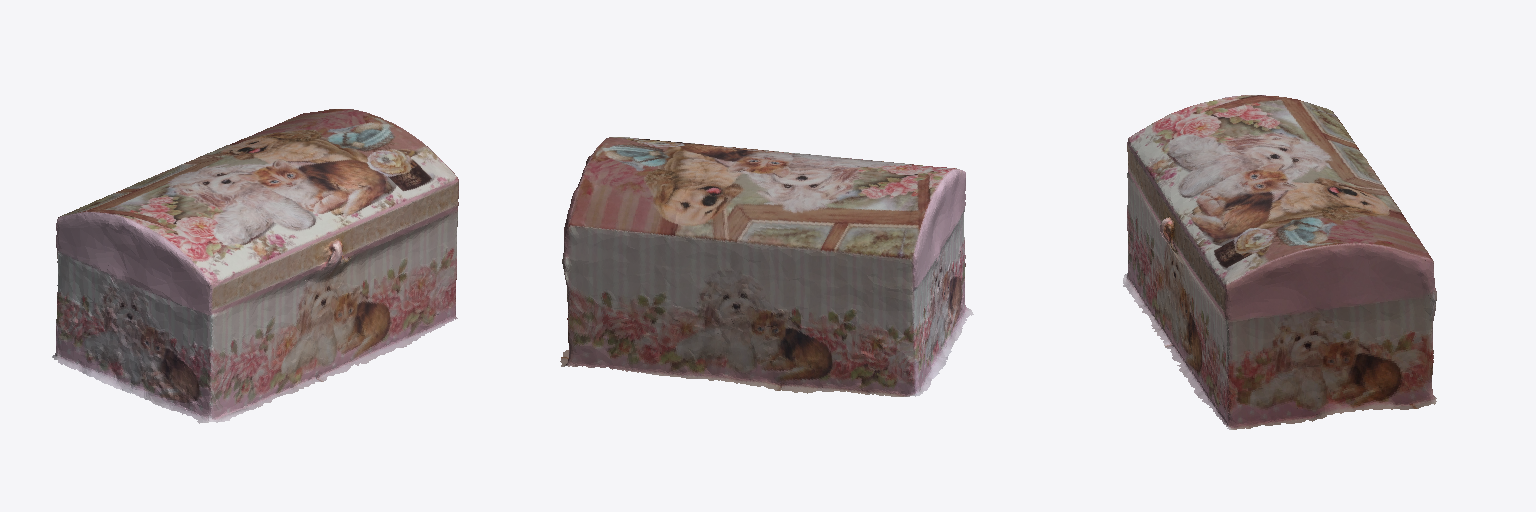
The picture shows the model from 3 angles: view 1: azimuth 30°, elevation 25°; view 2: azimuth 150°, elevation 25°; view 3: azimuth 270°, elevation 25°; orthographic projection.
Visible parts, largest first — view 1: mesh; view 2: mesh; view 3: mesh.
Part boxes in pixels (left/top/right/bottom): mesh: left=52, top=109, right=458, bottom=423; mesh: left=560, top=137, right=973, bottom=396; mesh: left=1123, top=95, right=1436, bottom=429.
Bounding box in the file's own units: 34.38 × 16.24 × 26.3.
Materials: 1 (1 with a texture image).